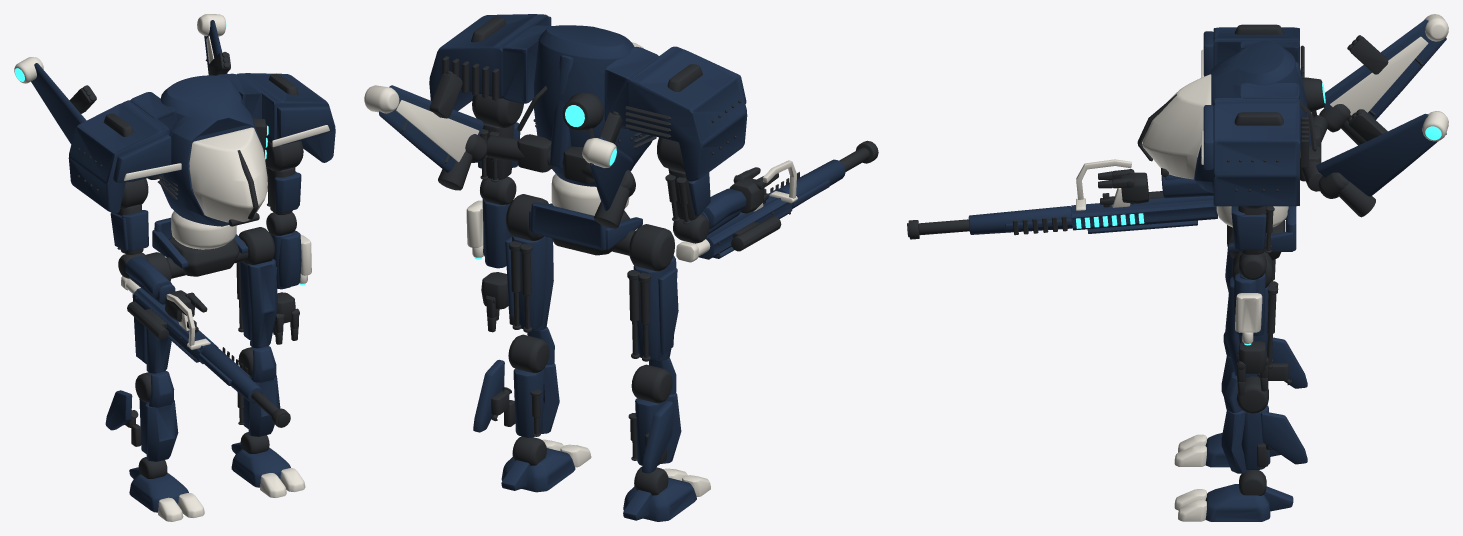
The model's file is Titan_L1.fbx.
3 views of the same model, side by side, from view 1: azimuth 30°, elevation 25°; view 2: azimuth 150°, elevation 25°; view 3: azimuth 270°, elevation 25° (orthographic). The views are drawn at different scales.
Parts seen in each view (by area): view 1: L1_Mantle_R, L1_Torso_Upper, L1_Hatch, L1_Mantle_L, L1_Thigh_Plate_L, L1_Pelvis, L1_Shin_Plate_R, L1_Wing_R, L1_Waist, L1_Rifle_Shroud, L1_Foot_R, L1_Foot_L (+39 smaller); view 2: L1_Mantle_R, L1_Torso_Upper, L1_Mantle_L, L1_Collar, L1_Wing_L, L1_Wing_Top_L, L1_Wing_Boom_L, L1_Rifle_Receiver, L1_Thigh_Hub_R, L1_Thigh_L, L1_Shin_L, L1_Foot_R (+49 smaller); view 3: L1_Mantle_L, L1_Hatch, L1_Wing_L, L1_Torso_Upper, L1_Rifle_Receiver, L1_Wing_R, L1_Mantle_R, L1_Wing_Top_R, L1_Rifle_Shroud, L1_Foot_L, L1_Calf_Blade_L, L1_Shin_Plate_L (+23 smaller).
Boxes of the visible parts, <box> form: L1_Mantle_R: <box>68,92,176,213</box>; L1_Torso_Upper: <box>159,75,262,226</box>; L1_Hatch: <box>189,127,267,222</box>; L1_Mantle_L: <box>217,73,335,162</box>; L1_Thigh_Plate_L: <box>247,259,277,348</box>; L1_Pelvis: <box>166,236,248,278</box>; L1_Shin_Plate_R: <box>145,400,178,461</box>; L1_Wing_R: <box>31,63,86,143</box>; L1_Waist: <box>171,211,236,249</box>; L1_Rifle_Shroud: <box>198,345,263,403</box>; L1_Foot_R: <box>129,472,188,512</box>; L1_Foot_L: <box>231,448,290,487</box>; L1_Mantle_R: <box>604,46,747,181</box>; L1_Torso_Upper: <box>534,25,653,186</box>; L1_Mantle_L: <box>429,14,552,110</box>; L1_Collar: <box>529,202,642,250</box>; L1_Wing_L: <box>379,85,483,172</box>; L1_Wing_Top_L: <box>396,100,479,162</box>; L1_Wing_Boom_L: <box>486,134,554,172</box>; L1_Rifle_Receiver: <box>698,190,792,259</box>; L1_Thigh_Hub_R: <box>629,224,674,271</box>; L1_Thigh_L: <box>512,236,546,329</box>; L1_Shin_L: <box>513,368,543,437</box>; L1_Foot_R: <box>623,477,696,521</box>; L1_Mantle_L: <box>1203,83,1299,206</box>; L1_Hatch: <box>1142,74,1211,179</box>; L1_Wing_L: <box>1316,113,1446,196</box>; L1_Torso_Upper: <box>1194,41,1306,193</box>; L1_Rifle_Receiver: <box>1071,196,1217,233</box>; L1_Wing_R: <box>1324,19,1446,119</box>; L1_Mantle_R: <box>1203,27,1299,76</box>; L1_Wing_Top_R: <box>1330,36,1428,115</box>; L1_Rifle_Shroud: <box>968,206,1072,234</box>; L1_Foot_L: <box>1205,484,1270,521</box>; L1_Calf_Blade_L: <box>1261,411,1307,464</box>; L1_Shin_Plate_L: <box>1221,410,1249,473</box>.
Size of the model in its own units: 3.56 by 5.81 by 6.63.
